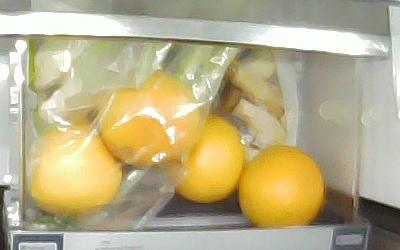grapefruit: (237, 144, 326, 226)
grapefruit_vinyl: (97, 69, 199, 167), (27, 123, 122, 216), (166, 115, 244, 202)
